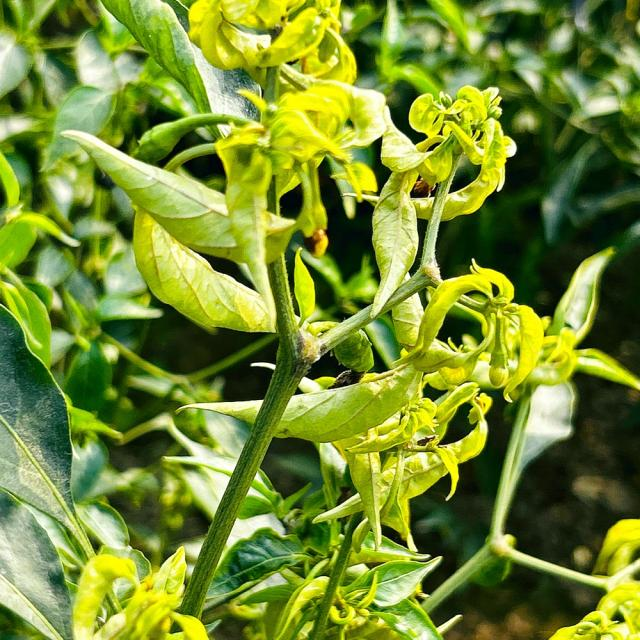Chilli_Leaf_Curl: (3, 1, 636, 638), (398, 258, 544, 401), (174, 361, 423, 444), (130, 206, 276, 334), (59, 127, 232, 224), (405, 83, 517, 221), (186, 0, 341, 74)
